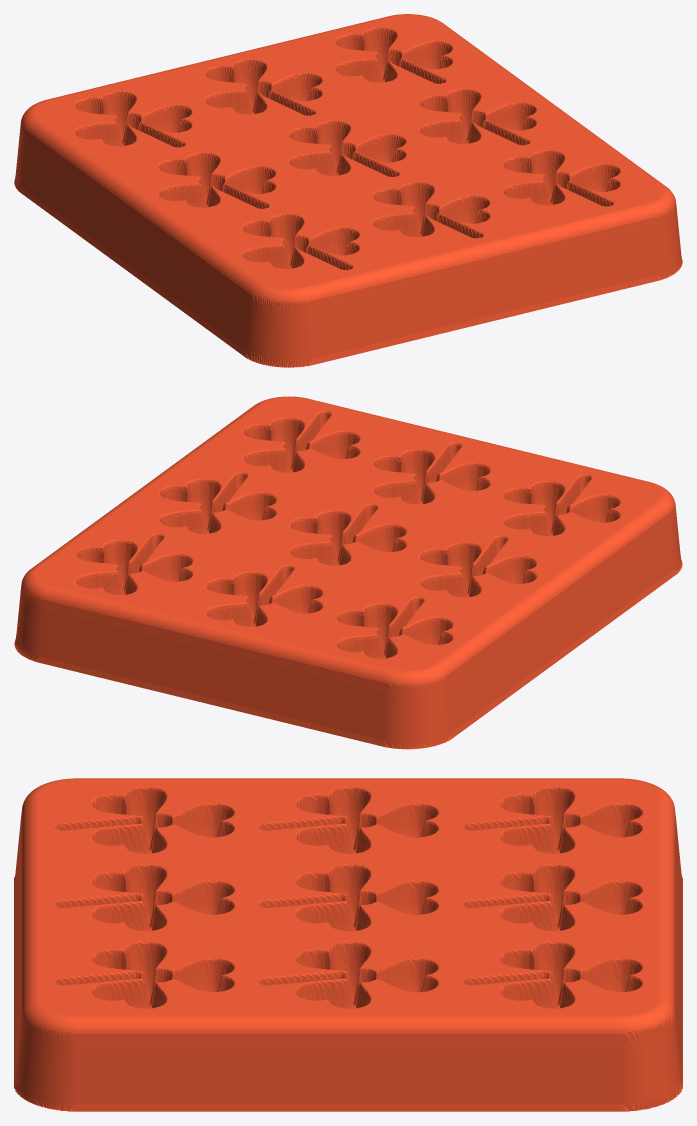
File: mold.glb
The picture shows the model from 3 angles, top to bottom: view 1: azimuth 30°, elevation 25°; view 2: azimuth 150°, elevation 25°; view 3: azimuth 270°, elevation 25°; orthographic projection. The views are drawn at different scales.
Visible parts, largest first — view 1: geometry_0; view 2: geometry_0; view 3: geometry_0.
Boxes of the visible parts, x1,y1,x2,y2 form: geometry_0: (14, 14, 682, 367); geometry_0: (14, 396, 682, 749); geometry_0: (14, 778, 682, 1111).
Bounding box in the file's own units: 0.0874 × 0.0136 × 0.0964.
